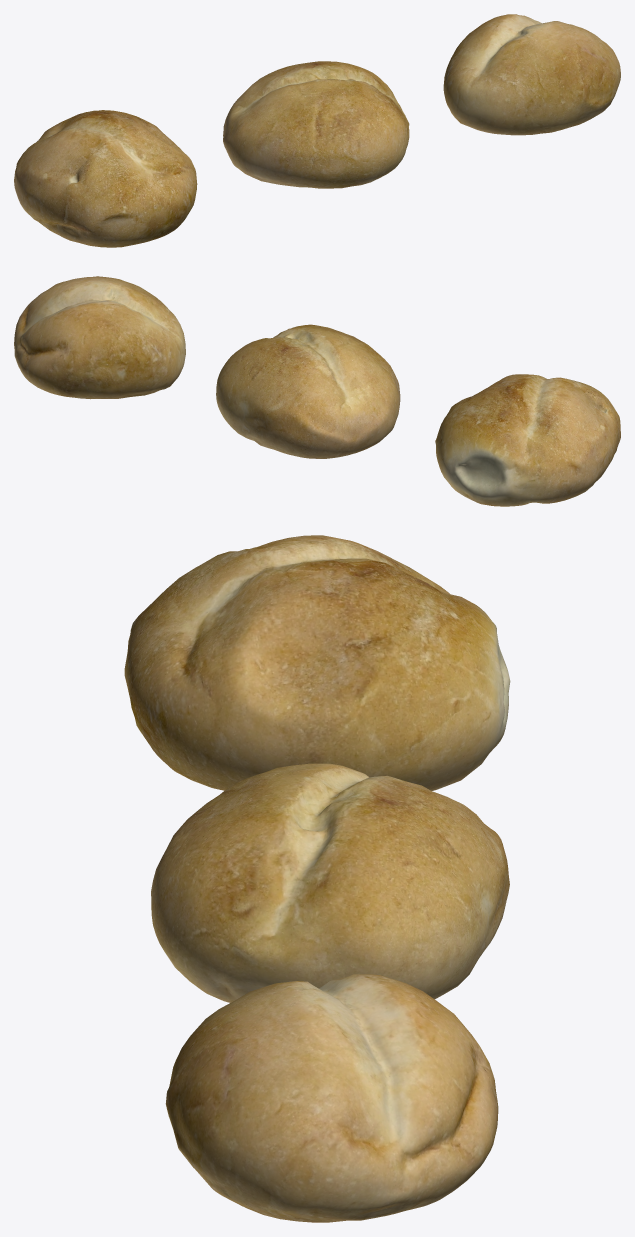
File: hamburger_buns.glb
3 renders of one model, top to bottom at view 1: azimuth 30°, elevation 25°; view 2: azimuth 150°, elevation 25°; view 3: azimuth 270°, elevation 25°, orthographic. The views are drawn at different scales.
Parts seen in each view (by area): view 1: hamburger_buns_01, hamburger_buns_02, hamburger_buns_03; view 2: hamburger_buns_01, hamburger_buns_02, hamburger_buns_03; view 3: hamburger_buns_01, hamburger_buns_02, hamburger_buns_03.
Boxes of the visible parts, <box> form: hamburger_buns_01: <box>14,110,197,247</box>; hamburger_buns_02: <box>223,61,409,188</box>; hamburger_buns_03: <box>443,14,620,135</box>; hamburger_buns_01: <box>435,374,620,506</box>; hamburger_buns_02: <box>216,324,400,458</box>; hamburger_buns_03: <box>14,276,185,399</box>; hamburger_buns_01: <box>124,535,510,790</box>; hamburger_buns_02: <box>151,763,509,1002</box>; hamburger_buns_03: <box>165,974,498,1222</box>.
Bounding box in the file's own units: 0.3972 × 0.0634 × 0.1138.
Materials: 1 (1 with a texture image).
